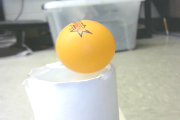PingPongBall: (56, 21, 114, 74)
